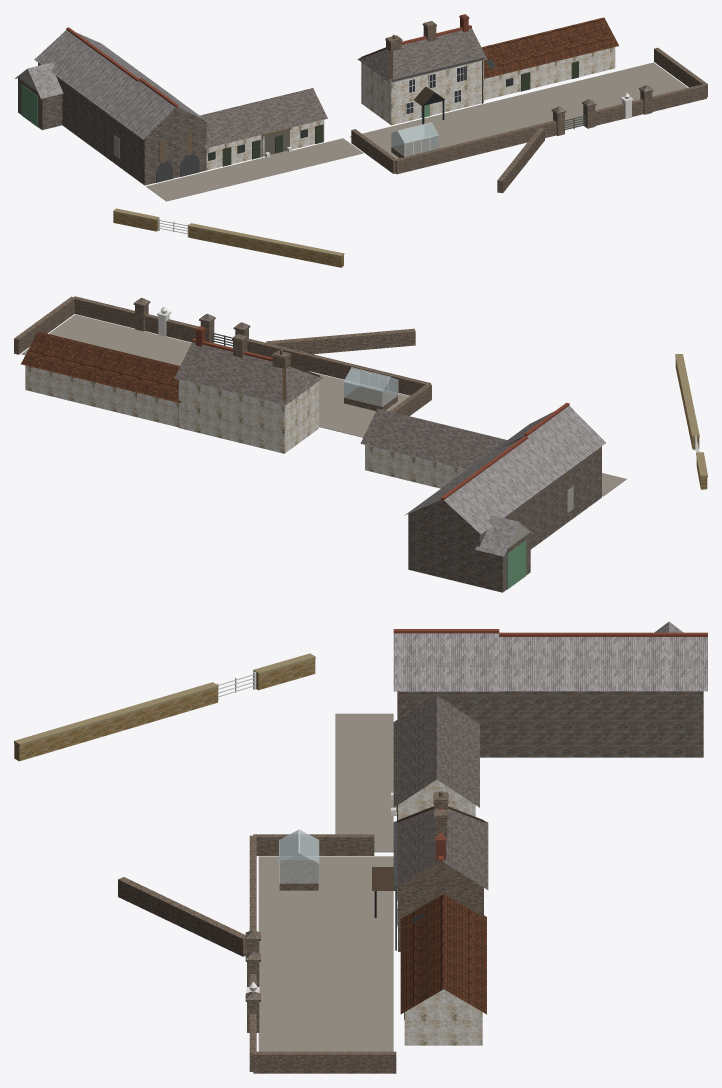
Rendered from tymawr.glb.
The picture shows the model from 3 angles, top to bottom: view 1: azimuth 30°, elevation 25°; view 2: azimuth 150°, elevation 25°; view 3: azimuth 270°, elevation 25°; orthographic projection. The views are drawn at different scales.
Visible parts, largest first — view 1: tymawr; view 2: tymawr; view 3: tymawr.
Part boxes in pixels (left/top/right/bottom): tymawr: left=14, top=14, right=707, bottom=267; tymawr: left=14, top=296, right=707, bottom=592; tymawr: left=14, top=621, right=707, bottom=1073.
Size of the model in its own units: 68.54 by 8.87 by 49.9.
24 materials, 7 textured.
